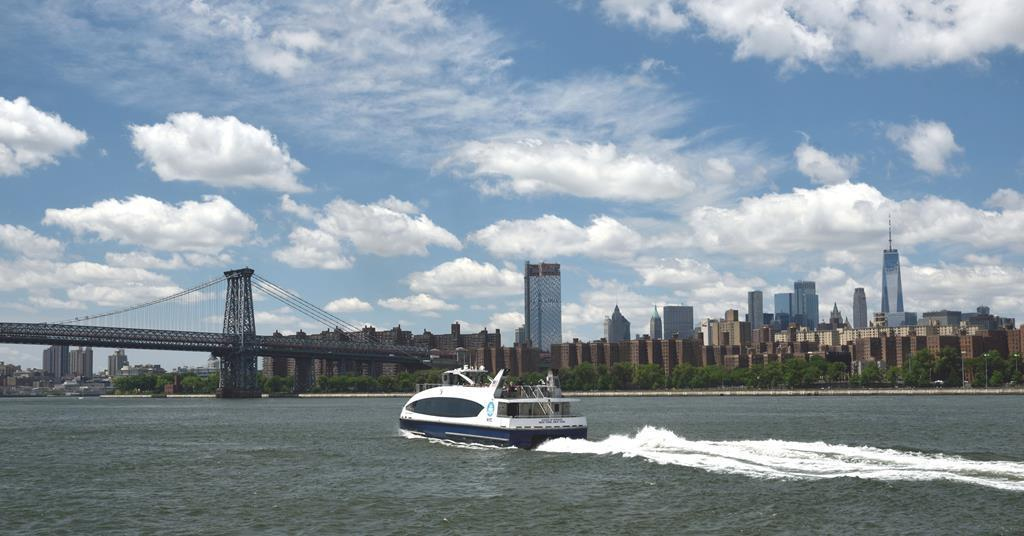PassengerShip: (386, 351, 594, 455)
